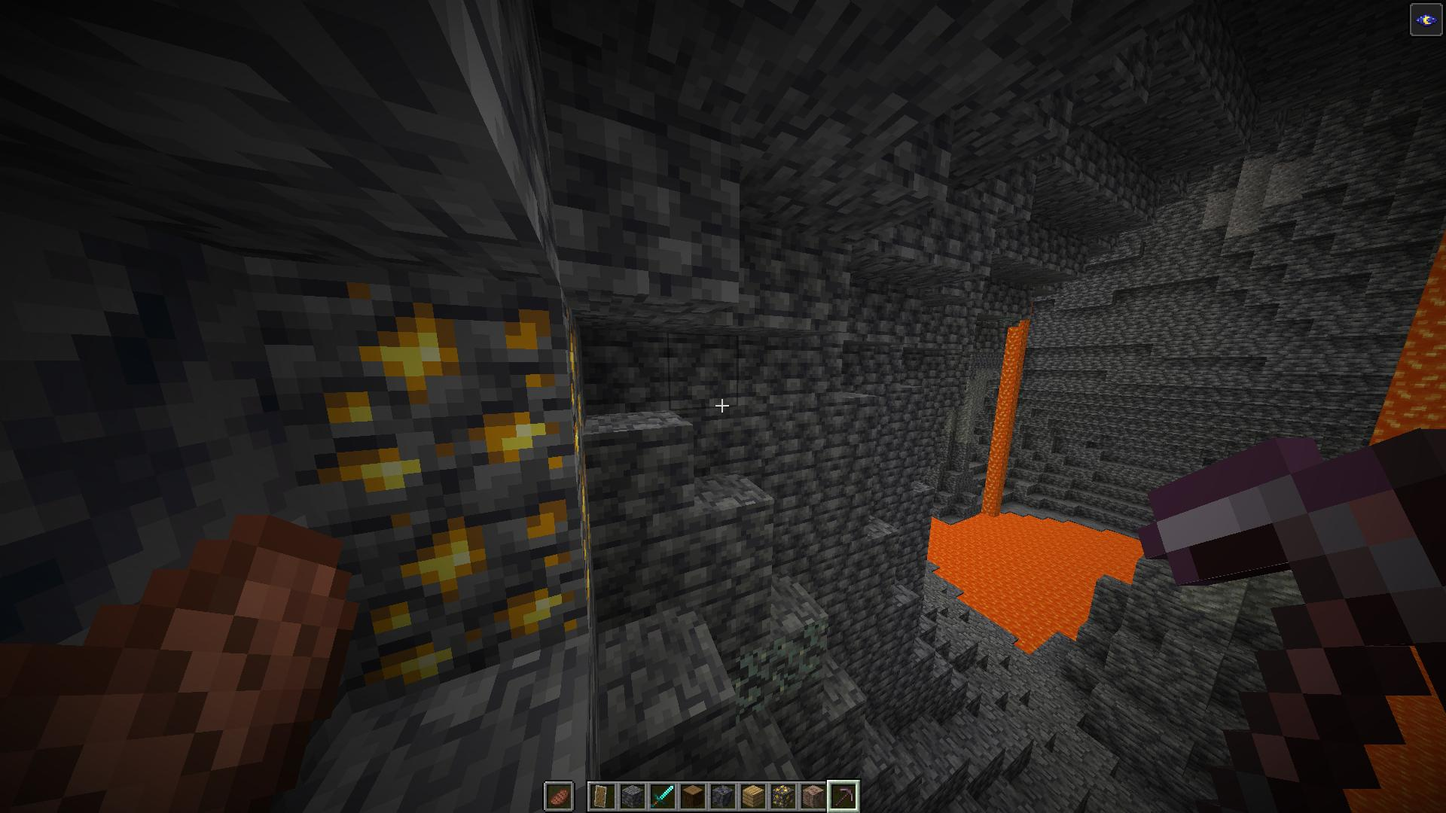gold ore: (283, 272, 579, 488), (351, 489, 581, 682)
